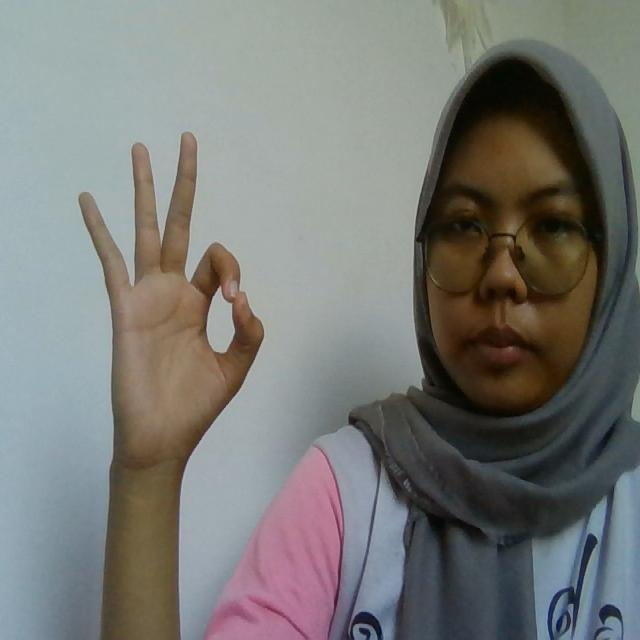F: (79, 130, 267, 453)
